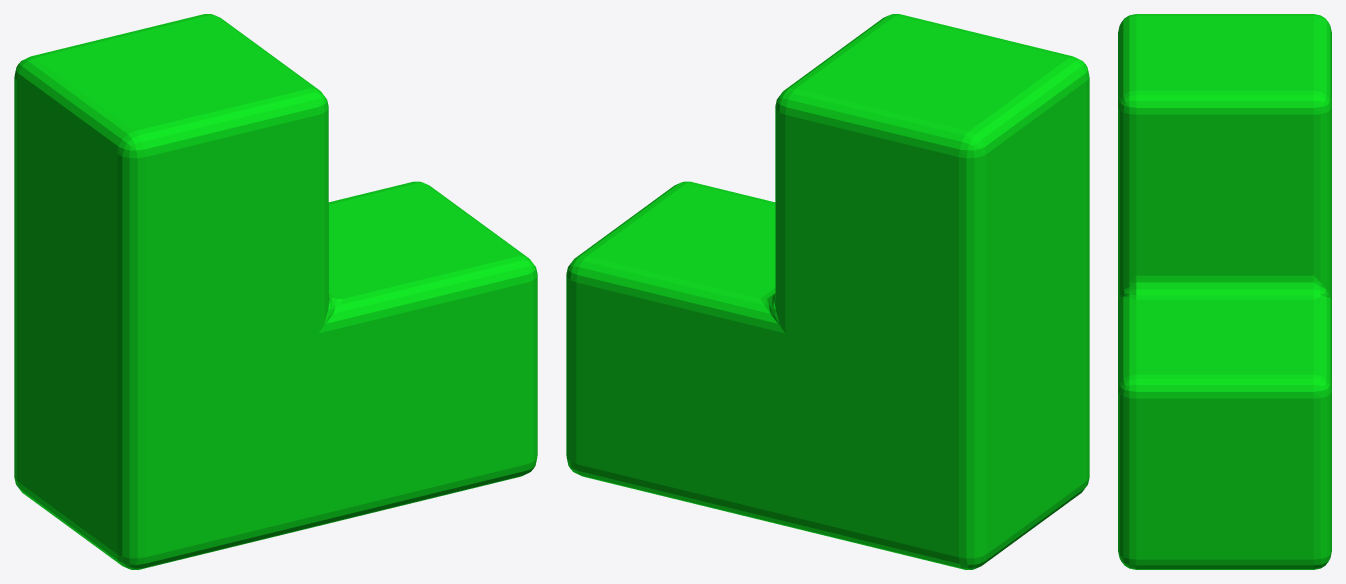
Rendered from Arcane.fbx.
3 views of the same model, side by side, from view 1: azimuth 30°, elevation 25°; view 2: azimuth 150°, elevation 25°; view 3: azimuth 270°, elevation 25° (orthographic). The views are drawn at different scales.
Visible parts, largest first — view 1: Arcane; view 2: Arcane; view 3: Arcane.
Boxes of the visible parts, x1=… form: Arcane: x1=14, y1=14, x2=537, y2=569; Arcane: x1=566, y1=14, x2=1089, y2=569; Arcane: x1=1118, y1=14, x2=1331, y2=569.
Bounding box in the file's own units: 400 × 400 × 200.
